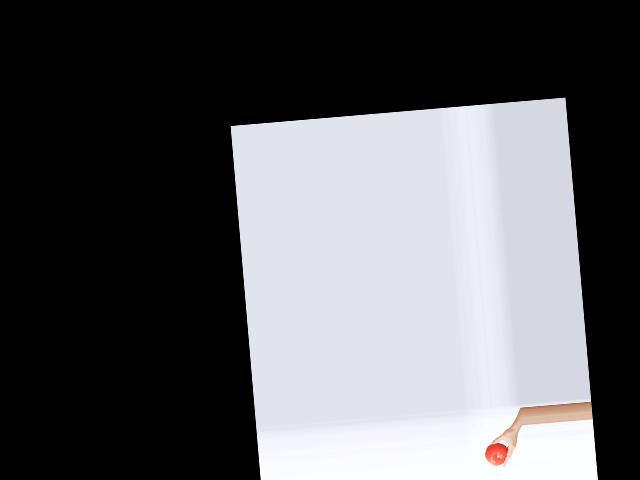tomato: (484, 442, 508, 466)
